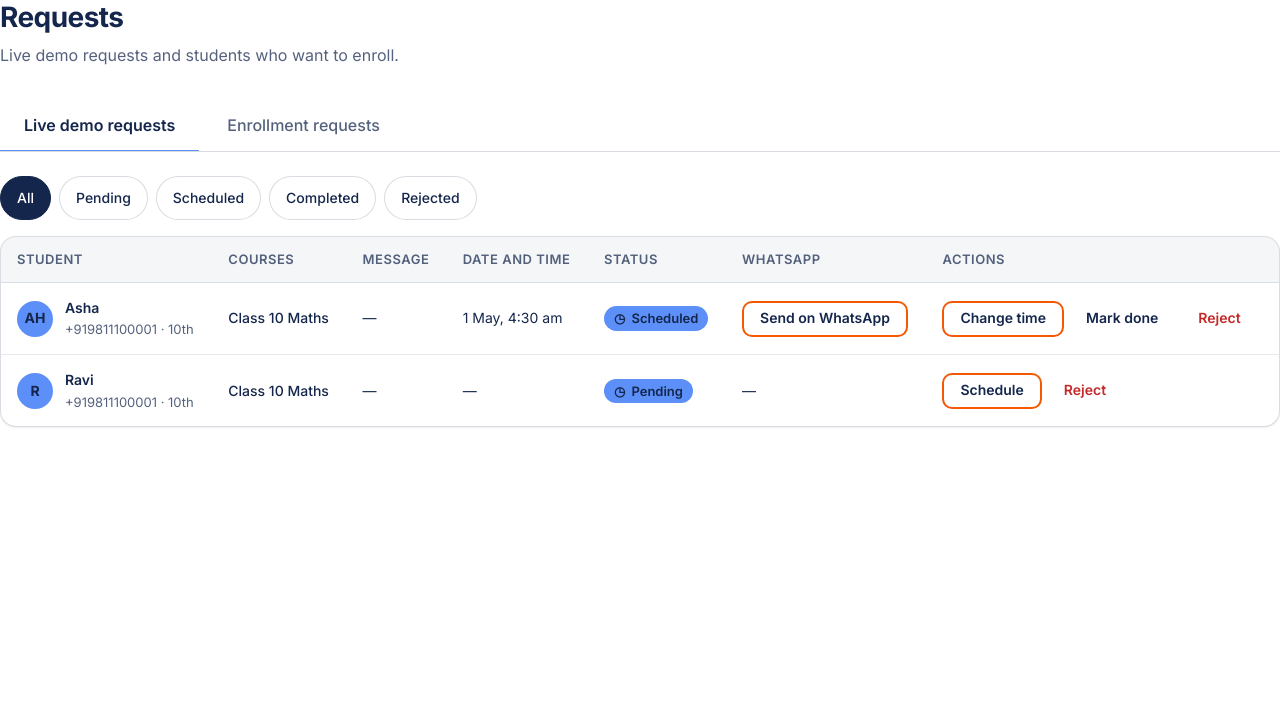
Test: live demo schedule: Generate link fills the Meet link field once the date is set
The width and height of the screenshot is (1280, 720).
Click the button "Schedule": (992, 391) top-left (942, 373), bottom-right (1042, 409)
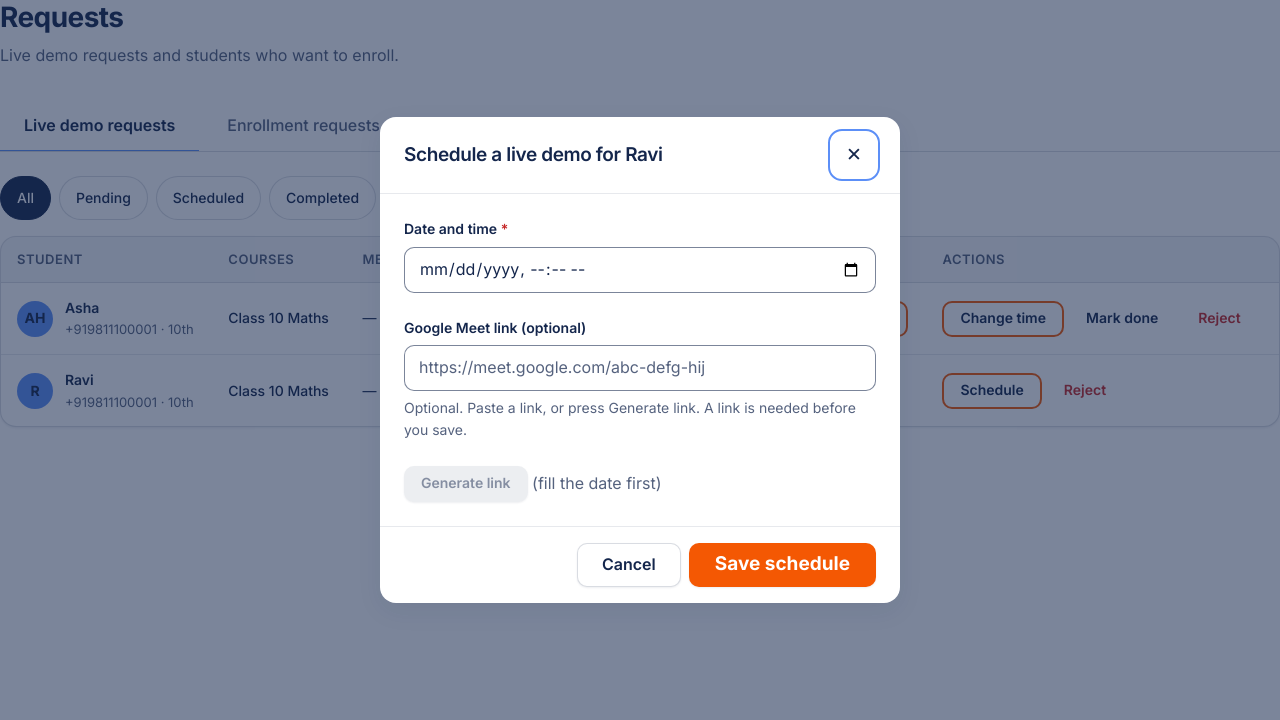
Check: the button "Generate link" is disabled, box top-left (404, 466), bottom-right (528, 502)
In the field labelled "Date and time *": (640, 270) top-left (404, 247), bottom-right (876, 293), type "2099-06-15T18:00"
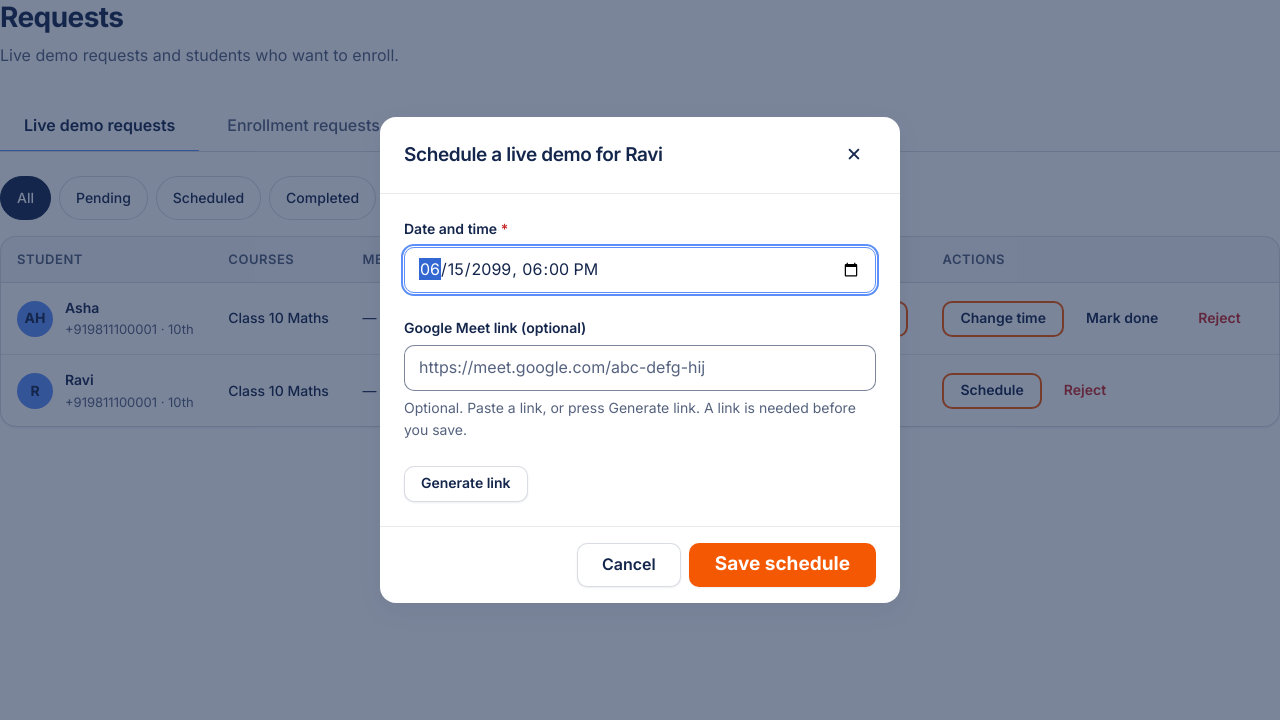
Click the button "Generate link": (466, 484) top-left (404, 466), bottom-right (528, 502)
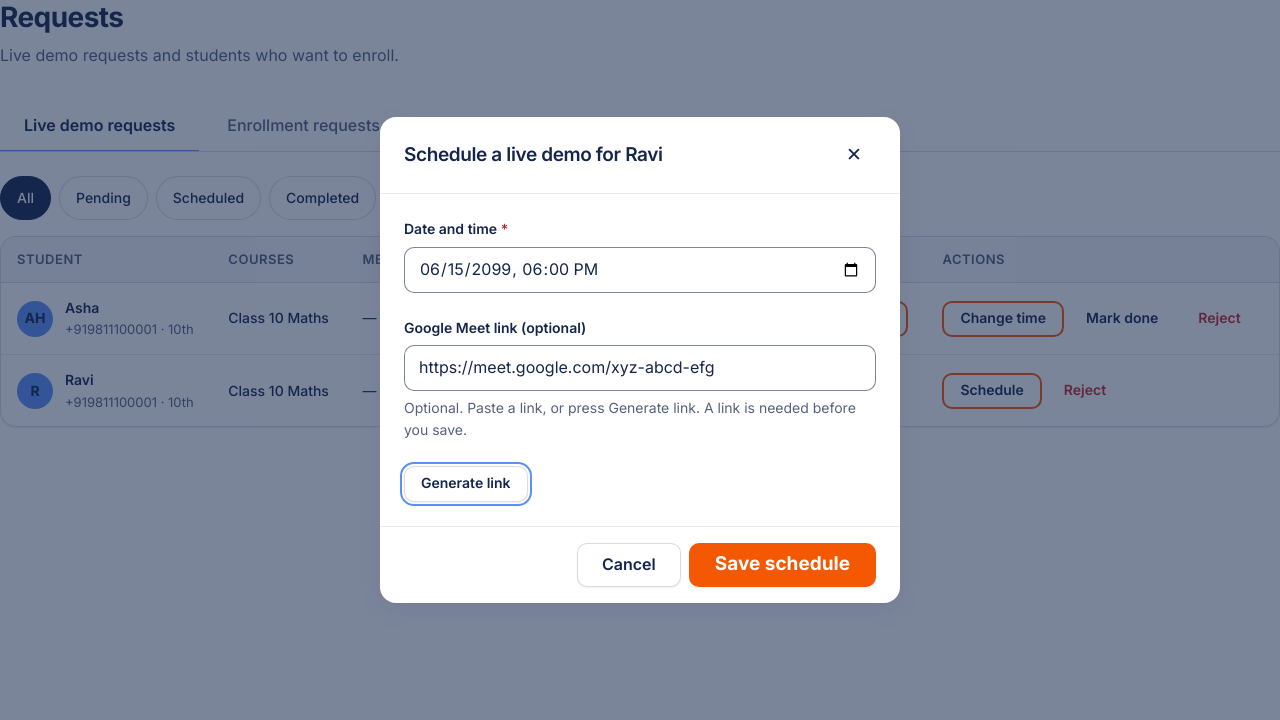
Check: the field labelled "Google Meet link (optional)" holds "https://meet.google.com/xyz-abcd-efg", box top-left (404, 345), bottom-right (876, 391)
